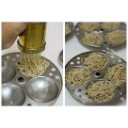idiyappam: (15, 53, 50, 76), (88, 79, 114, 103), (86, 50, 112, 71), (107, 63, 126, 87), (65, 67, 89, 85), (84, 28, 103, 45), (107, 29, 125, 46)
